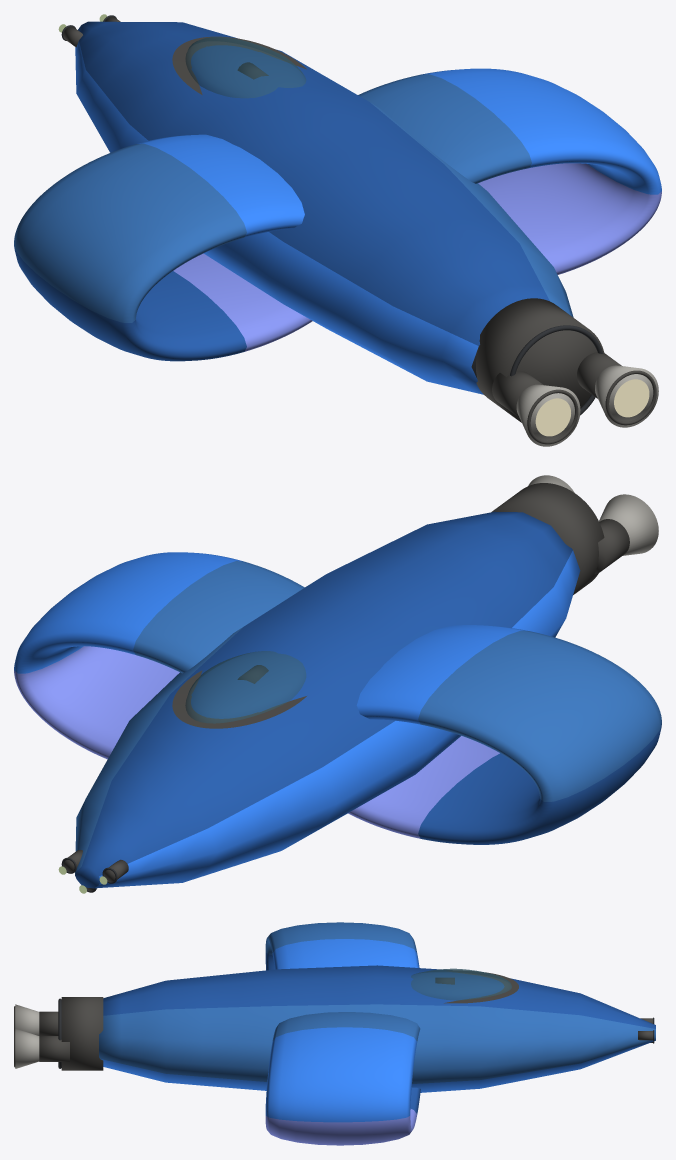
File: Ship_TwoHoop_274461.glb
3 views of the same model, one above another, from view 1: azimuth 30°, elevation 25°; view 2: azimuth 150°, elevation 25°; view 3: azimuth 270°, elevation 25° (orthographic). The views are drawn at different scales.
Parts seen in each view (by area): view 1: Fuselage_MainCenteredHull_CenterOfMassAtOrigin, Hoop_Left_StructuralRing_YAxisHole_CenterTangent_AftSwept, Hoop_Right_StructuralRing_YAxisHole_CenterTangent_AftSwept, EngineBlock_AftHullIntegratedMountPlate, CanopyGlass_LowForwardPodDome, EngineEmitter, CanopyFrame_LowInsetOvalRim, EngineBell_Right_AftHullBurnishedNozzle, EngineBell_Left_AftHullBurnishedNozzle, EngineThroat_Left_AftHullDarkSocket, EngineThroat_Right_AftHullDarkSocket, EngineBlock_AftHullDarkTrimRing (+2 smaller); view 2: Fuselage_MainCenteredHull_CenterOfMassAtOrigin, Hoop_Left_StructuralRing_YAxisHole_CenterTangent_AftSwept, Hoop_Right_StructuralRing_YAxisHole_CenterTangent_AftSwept, CanopyGlass_LowForwardPodDome, EngineBlock_AftHullIntegratedMountPlate, EngineBell_Left_AftHullBurnishedNozzle, CanopyFrame_LowInsetOvalRim, EngineThroat_Left_AftHullDarkSocket; view 3: Fuselage_MainCenteredHull_CenterOfMassAtOrigin, Hoop_Right_StructuralRing_YAxisHole_CenterTangent_AftSwept, Hoop_Left_StructuralRing_YAxisHole_CenterTangent_AftSwept, EngineBlock_AftHullIntegratedMountPlate, CanopyGlass_LowForwardPodDome, EngineBell_Right_AftHullBurnishedNozzle, CanopyFrame_LowInsetOvalRim, EngineThroat_Right_AftHullDarkSocket, EngineBell_Left_AftHullBurnishedNozzle, EngineThroat_Left_AftHullDarkSocket.
Boxes of the visible parts, bbox=[...] form: Fuselage_MainCenteredHull_CenterOfMassAtOrigin: bbox=[75, 21, 573, 394]; Hoop_Left_StructuralRing_YAxisHole_CenterTangent_AftSwept: bbox=[14, 134, 312, 361]; Hoop_Right_StructuralRing_YAxisHole_CenterTangent_AftSwept: bbox=[358, 68, 661, 274]; EngineBlock_AftHullIntegratedMountPlate: bbox=[476, 298, 604, 422]; CanopyGlass_LowForwardPodDome: bbox=[185, 37, 306, 98]; EngineEmitter: bbox=[535, 379, 649, 436]; CanopyFrame_LowInsetOvalRim: bbox=[172, 36, 306, 94]; EngineBell_Right_AftHullBurnishedNozzle: bbox=[595, 365, 658, 427]; EngineBell_Left_AftHullBurnishedNozzle: bbox=[516, 384, 580, 446]; EngineThroat_Left_AftHullDarkSocket: bbox=[492, 371, 543, 417]; EngineThroat_Right_AftHullDarkSocket: bbox=[577, 352, 621, 398]; EngineBlock_AftHullDarkTrimRing: bbox=[510, 325, 603, 415]; Fuselage_MainCenteredHull_CenterOfMassAtOrigin: bbox=[75, 511, 580, 888]; Hoop_Left_StructuralRing_YAxisHole_CenterTangent_AftSwept: bbox=[348, 625, 661, 844]; Hoop_Right_StructuralRing_YAxisHole_CenterTangent_AftSwept: bbox=[14, 552, 304, 759]; CanopyGlass_LowForwardPodDome: bbox=[185, 651, 306, 723]; EngineBlock_AftHullIntegratedMountPlate: bbox=[491, 483, 604, 594]; EngineBell_Left_AftHullBurnishedNozzle: bbox=[599, 494, 658, 555]; CanopyFrame_LowInsetOvalRim: bbox=[172, 670, 306, 728]; EngineThroat_Left_AftHullDarkSocket: bbox=[594, 519, 629, 574]; Fuselage_MainCenteredHull_CenterOfMassAtOrigin: bbox=[99, 965, 655, 1092]; Hoop_Right_StructuralRing_YAxisHole_CenterTangent_AftSwept: bbox=[265, 1012, 420, 1145]; Hoop_Left_StructuralRing_YAxisHole_CenterTangent_AftSwept: bbox=[265, 922, 419, 970]; EngineBlock_AftHullIntegratedMountPlate: bbox=[61, 997, 103, 1070]; CanopyGlass_LowForwardPodDome: bbox=[411, 968, 511, 1000]; EngineBell_Right_AftHullBurnishedNozzle: bbox=[15, 1028, 39, 1068]; CanopyFrame_LowInsetOvalRim: bbox=[444, 971, 518, 1003]; EngineThroat_Right_AftHullDarkSocket: bbox=[39, 1036, 69, 1061]; EngineBell_Left_AftHullBurnishedNozzle: bbox=[15, 1004, 39, 1035]; EngineThroat_Left_AftHullDarkSocket: bbox=[39, 1011, 58, 1035].
Bounding box in the file's own units: 3.7 × 1.07 × 5.73.
